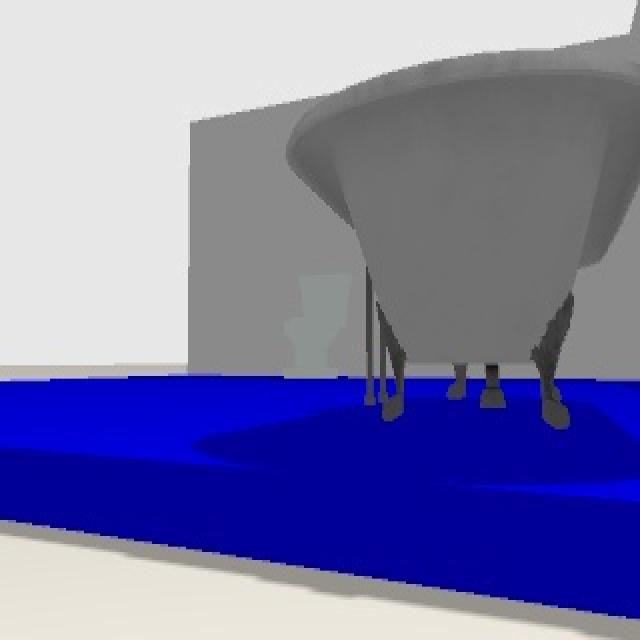bathtub: (284, 37, 638, 432)
